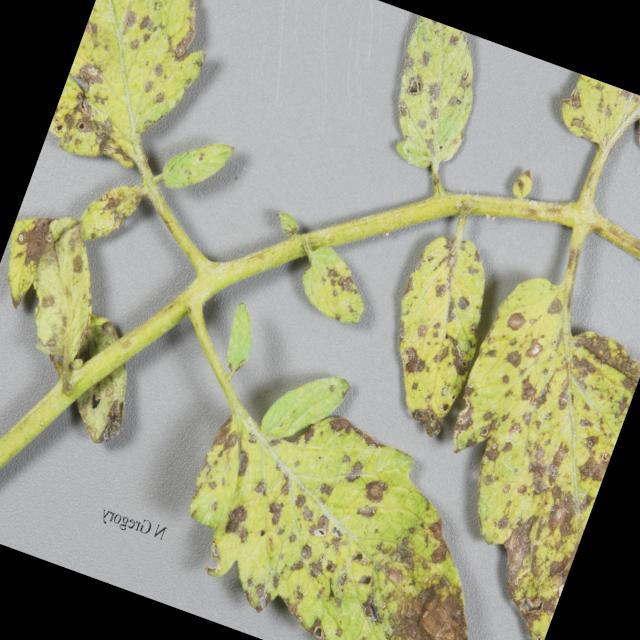Tomato Septoria spot leaf: (150, 340, 566, 640), (380, 260, 640, 640), (42, 0, 248, 191), (360, 227, 524, 451), (0, 187, 127, 391), (359, 12, 502, 186), (282, 237, 392, 339), (545, 70, 640, 188), (71, 168, 148, 254)
